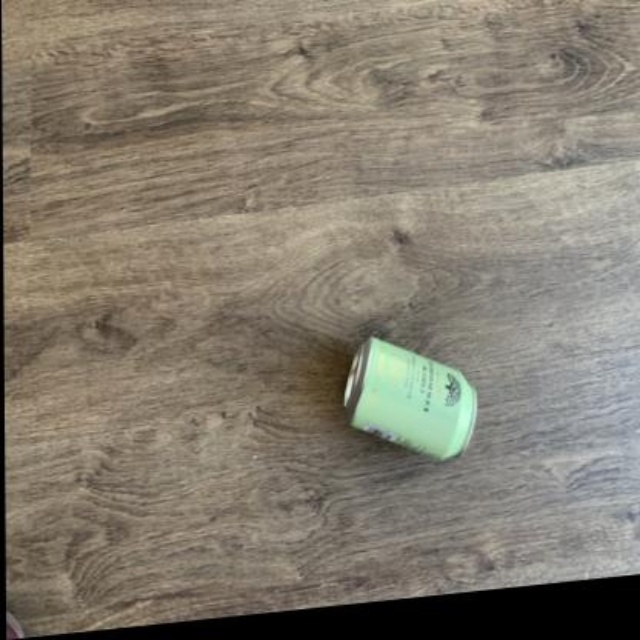trash: (345, 337, 475, 458)
